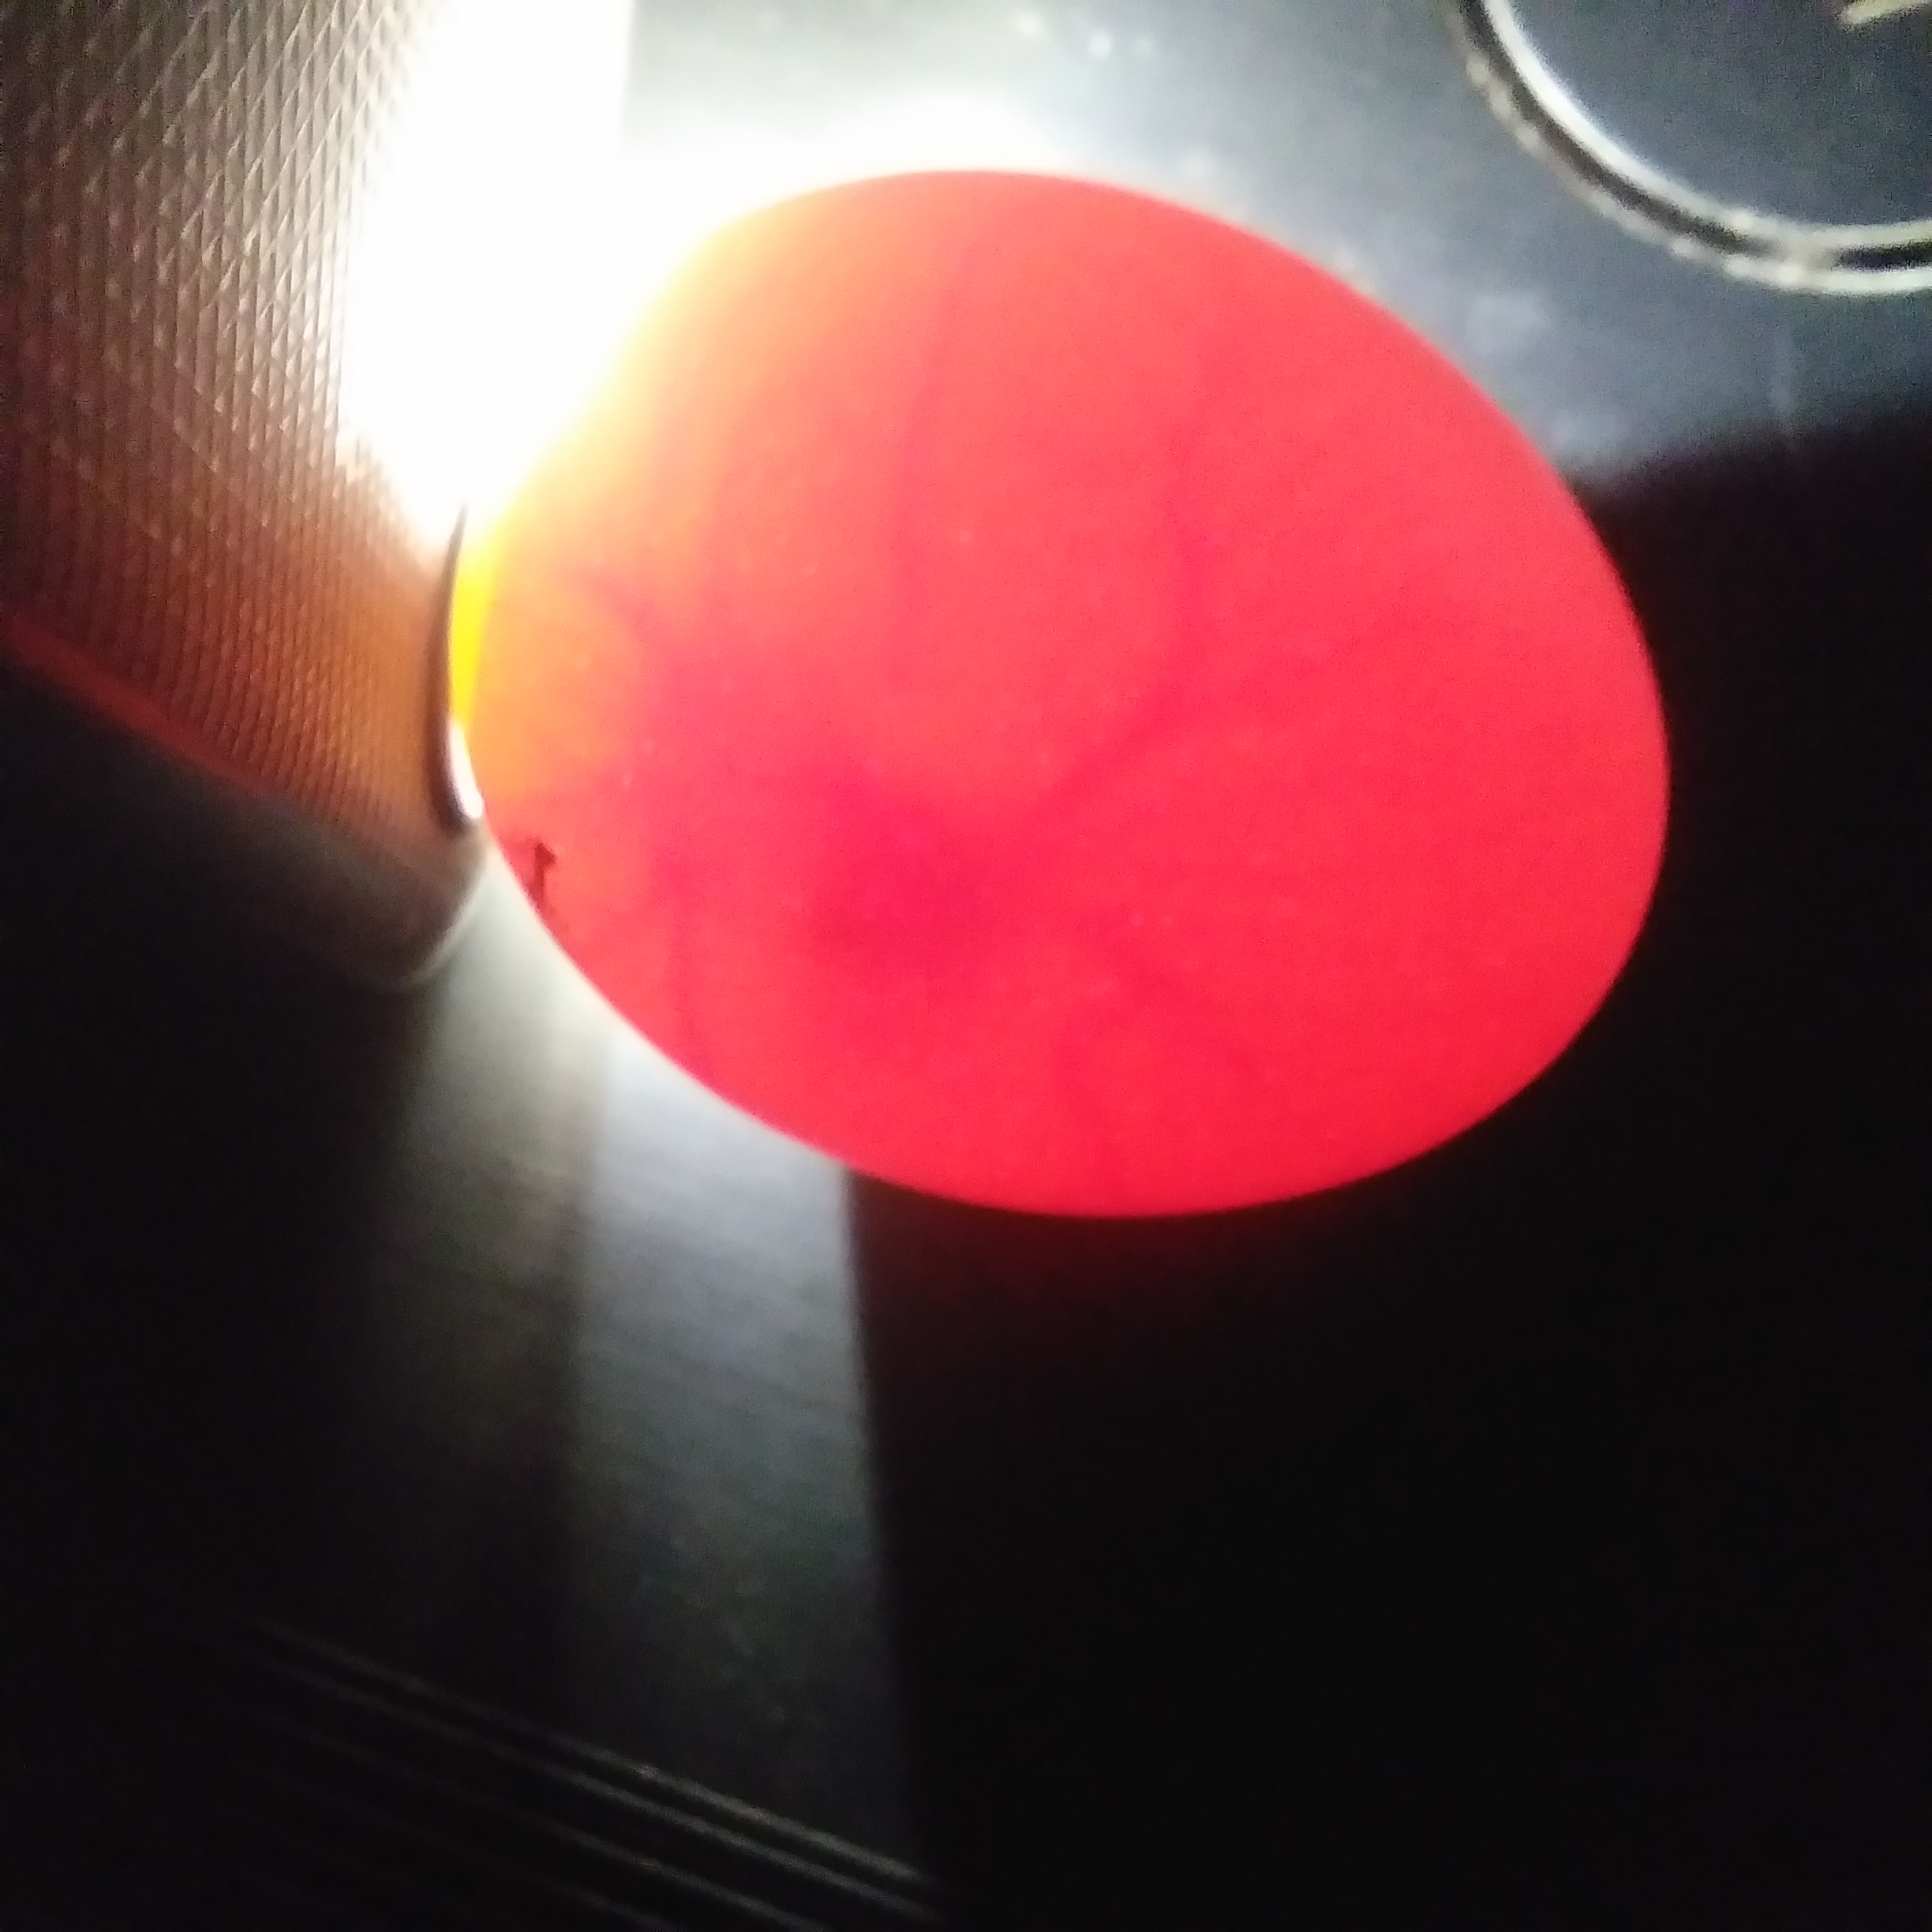bloodcell: (853, 311, 1233, 752), (563, 557, 787, 702)
embryo: (734, 791, 970, 962)
